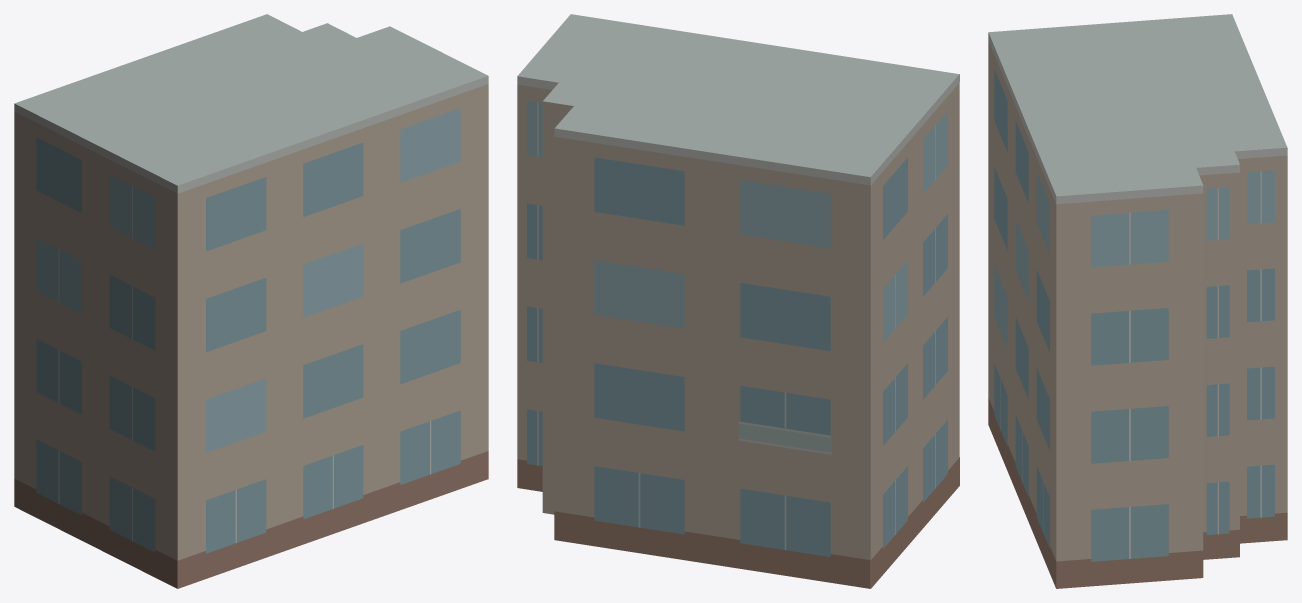
Rendered from residential-e5b3b7f9-021b-4729-897a-f15158a3e5e8.glb.
3 views of the same model, side by side, from view 1: azimuth 30°, elevation 25°; view 2: azimuth 150°, elevation 25°; view 3: azimuth 270°, elevation 25° (orthographic). The views are drawn at different scales.
Visible parts, largest first — view 1: residential-e5b3b7f9-021b-4729-897a-f15158a3e5e8.tmp; view 2: residential-e5b3b7f9-021b-4729-897a-f15158a3e5e8.tmp; view 3: residential-e5b3b7f9-021b-4729-897a-f15158a3e5e8.tmp.
Part boxes in pixels (x1,y1,x2,y2): residential-e5b3b7f9-021b-4729-897a-f15158a3e5e8.tmp: [14, 14, 488, 588]; residential-e5b3b7f9-021b-4729-897a-f15158a3e5e8.tmp: [517, 14, 959, 588]; residential-e5b3b7f9-021b-4729-897a-f15158a3e5e8.tmp: [988, 14, 1287, 588].
Size of the model in its own units: 12.17 by 12.2 by 8.44.
